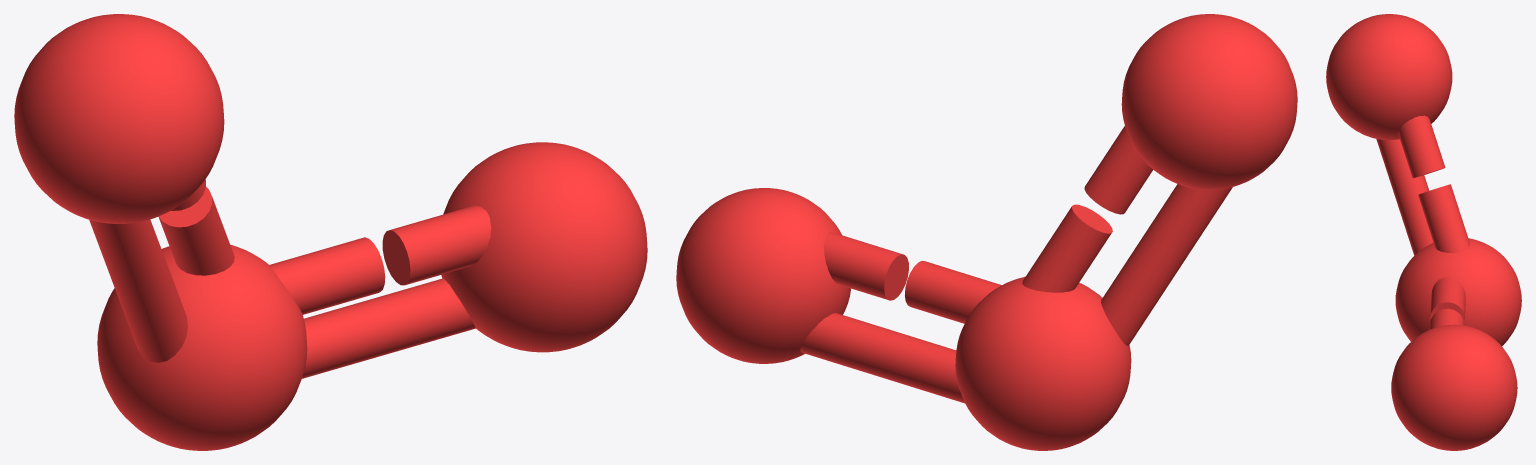
The model's file is ozone.fbx.
3 renders of one model, left to right at view 1: azimuth 30°, elevation 25°; view 2: azimuth 150°, elevation 25°; view 3: azimuth 270°, elevation 25°, orthographic. The views are drawn at different scales.
Visible parts, largest first — view 1: O2, O1, Oxygen-Center, O-O1 bond, O-O2 bond; view 2: O2, Oxygen-Center, O1, O-O2 bond, O-O1 bond; view 3: O1, O2, Oxygen-Center, O-O2 bond, O-O1 bond.
Boxes of the visible parts, left/top/right/bottom form: O2: left=14, top=14, right=224, bottom=223; O1: left=441, top=142, right=647, bottom=352; Oxygen-Center: left=97, top=244, right=307, bottom=450; O-O1 bond: left=269, top=205, right=491, bottom=378; O-O2 bond: left=89, top=179, right=234, bottom=362; O2: left=1121, top=14, right=1297, bottom=189; Oxygen-Center: left=955, top=276, right=1131, bottom=450; O1: left=676, top=188, right=850, bottom=363; O-O2 bond: left=1022, top=126, right=1232, bottom=345; O-O1 bond: left=800, top=232, right=1001, bottom=403; O1: left=1391, top=324, right=1517, bottom=450; O2: left=1326, top=14, right=1452, bottom=140; Oxygen-Center: left=1395, top=238, right=1521, bottom=345; O-O2 bond: left=1376, top=115, right=1469, bottom=255; O-O1 bond: left=1429, top=277, right=1465, bottom=329.
Bounding box in the file's own units: 264 × 189 × 113.
